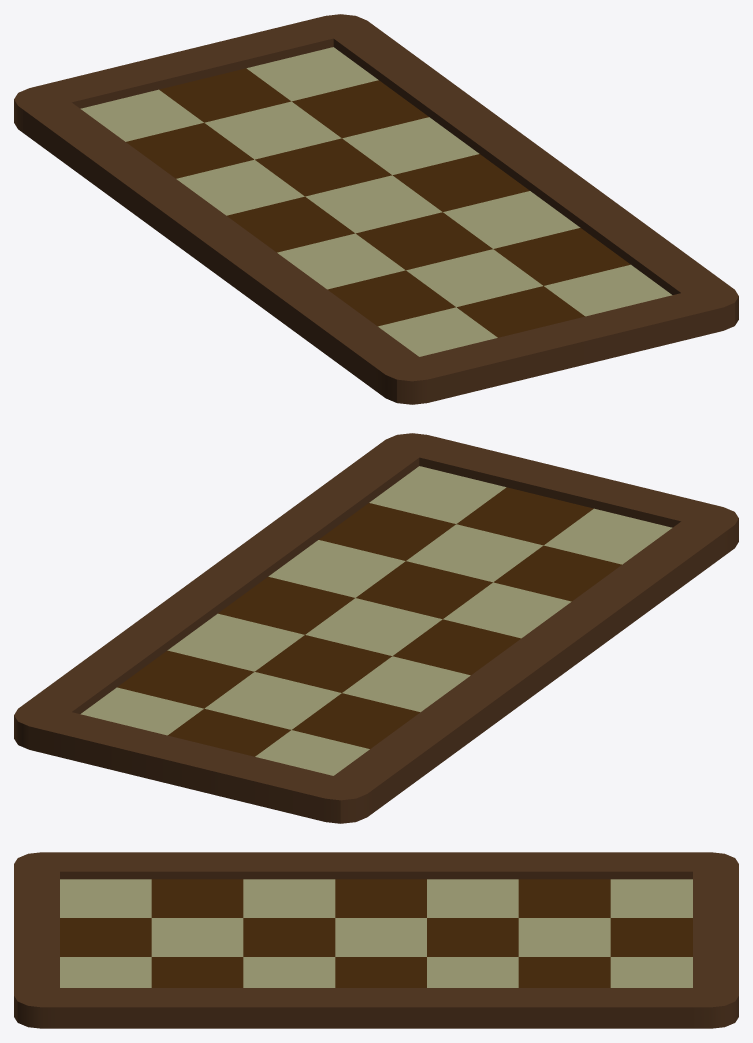
File: dowa_board.fbx
The picture shows the model from 3 angles, top to bottom: view 1: azimuth 30°, elevation 25°; view 2: azimuth 150°, elevation 25°; view 3: azimuth 270°, elevation 25°; orthographic projection. The views are drawn at different scales.
Parts seen in each view (by area): view 1: 立方体.005; view 2: 立方体.005; view 3: 立方体.005.
Part boxes in pixels (x1=…): 立方体.005: x1=14, y1=14, x2=738, y2=404; 立方体.005: x1=14, y1=433, x2=738, y2=823; 立方体.005: x1=14, y1=852, x2=738, y2=1028.
Size of the model in its own units: 800 by 52.81 by 1580.
